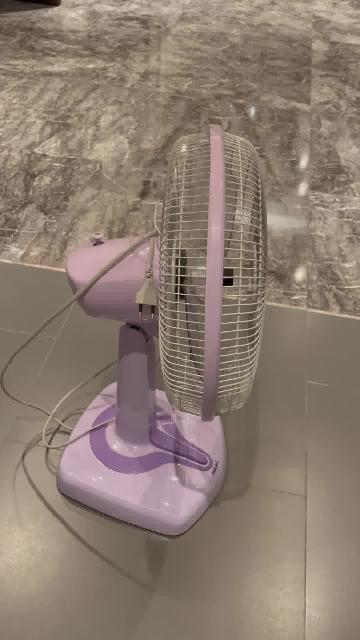Fan: (57, 125, 268, 539)
